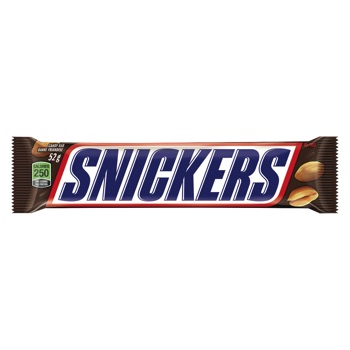snickers: (56, 147, 288, 201), (61, 147, 288, 201)
